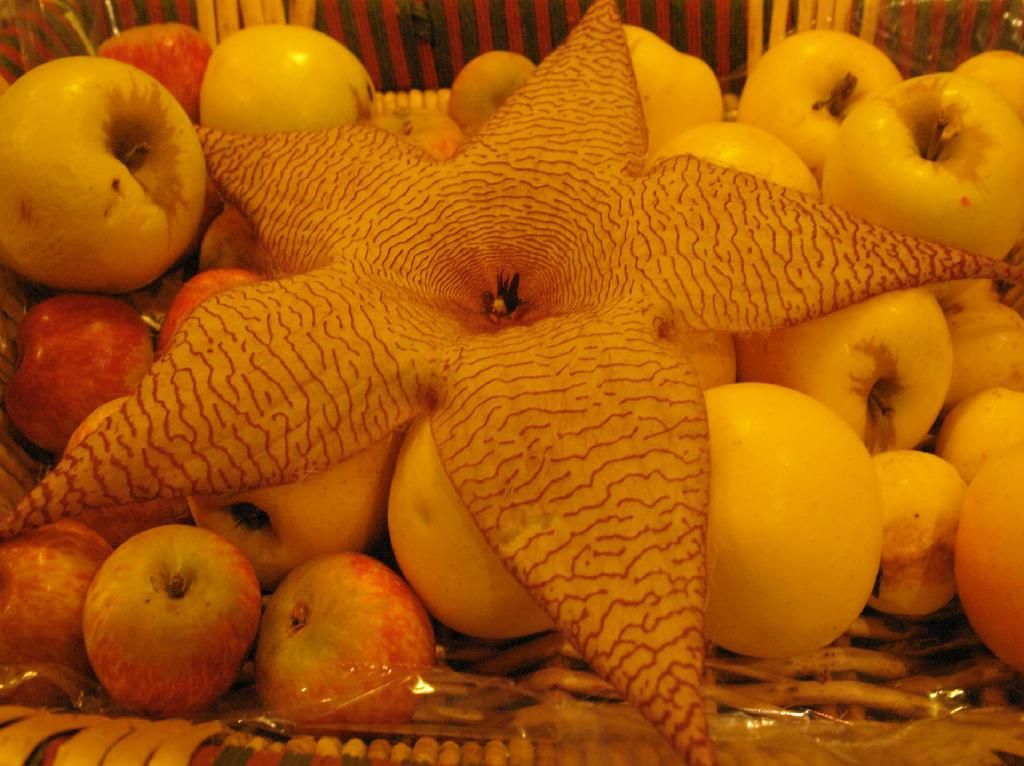Apple: (0, 19, 1023, 725), (75, 538, 243, 714)
